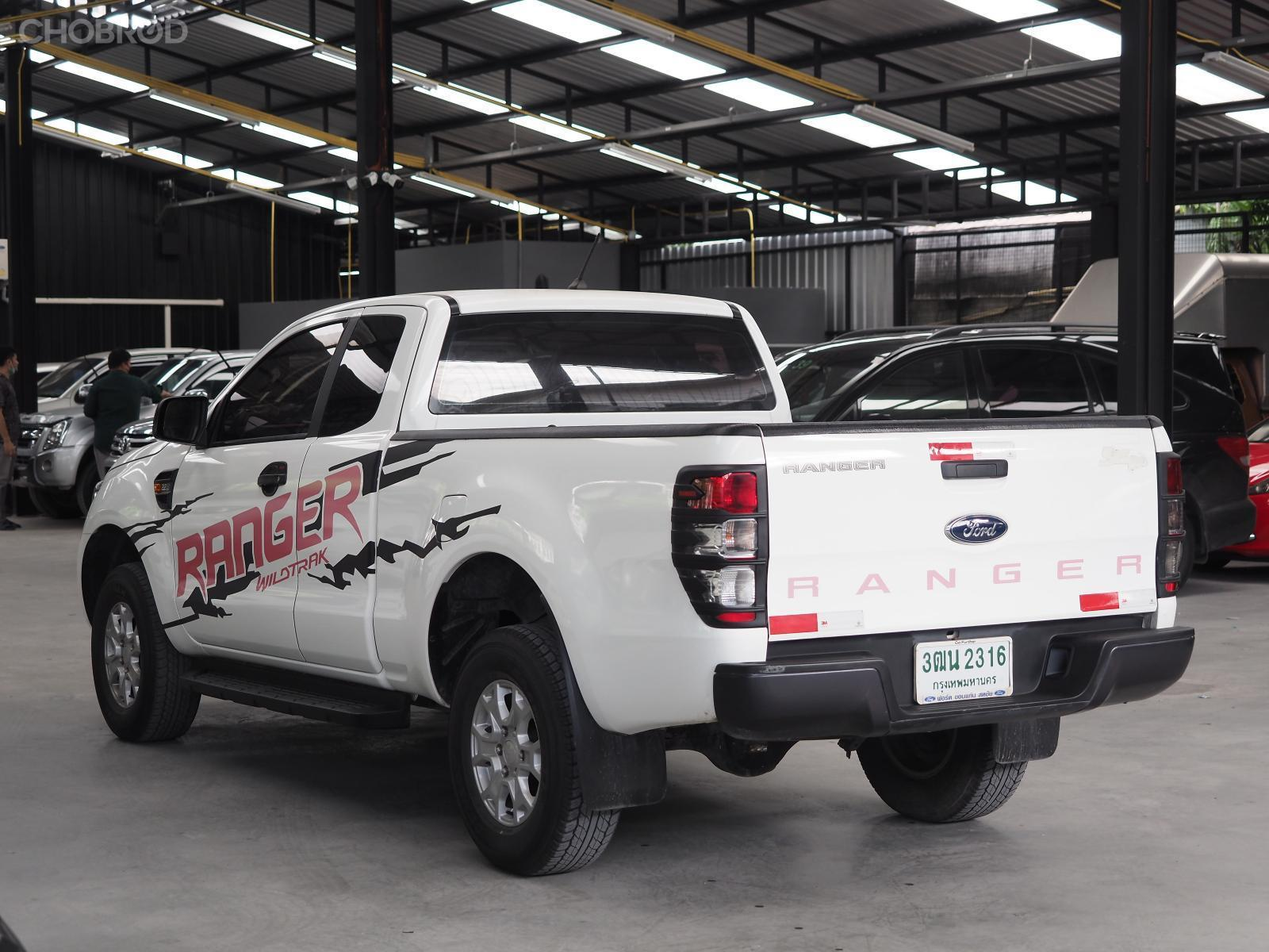license-plate: (912, 629, 1025, 712)
